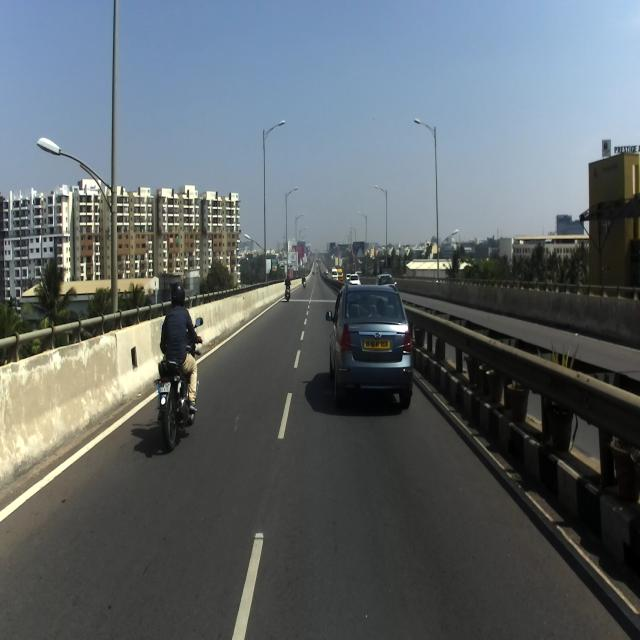car ahead at: (325, 277, 416, 407)
motorcycle ahead at: (156, 351, 196, 453)
